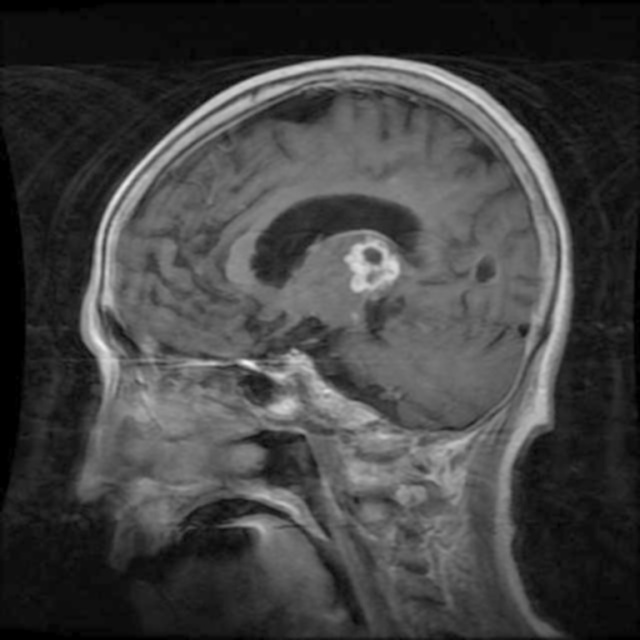pituitary tumor: (340, 239, 396, 299)
